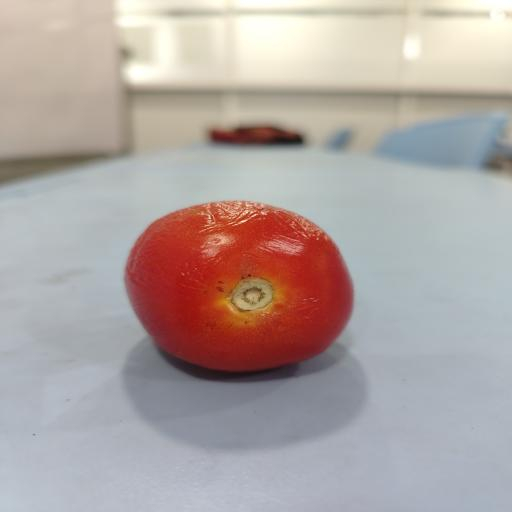spoiled: (125, 201, 353, 371)
